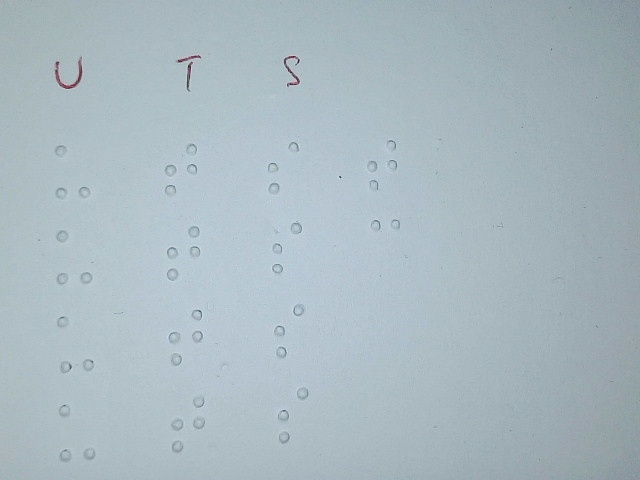S: (265, 138, 301, 195), (269, 219, 305, 276), (271, 302, 307, 359), (276, 385, 310, 444)
T: (169, 393, 207, 453), (162, 140, 200, 197), (164, 223, 202, 280), (167, 308, 205, 365)
U: (56, 402, 97, 463), (53, 142, 92, 200), (55, 228, 94, 286), (56, 314, 95, 372)
